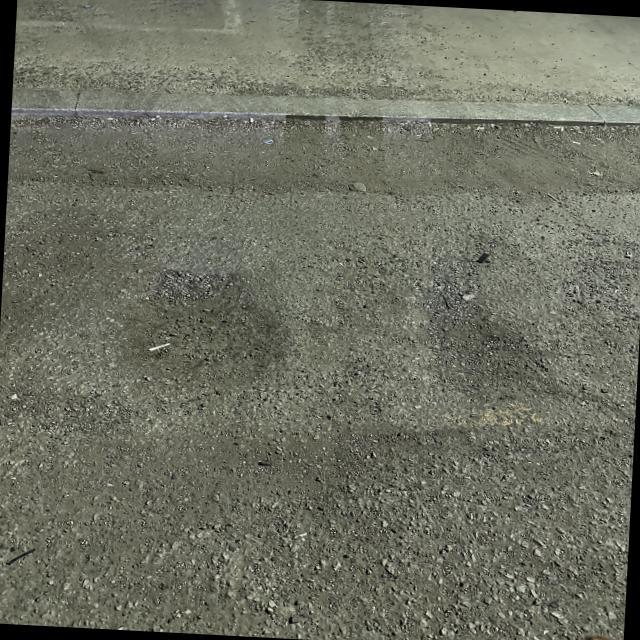pothole: (100, 262, 322, 411), (400, 287, 564, 410)
